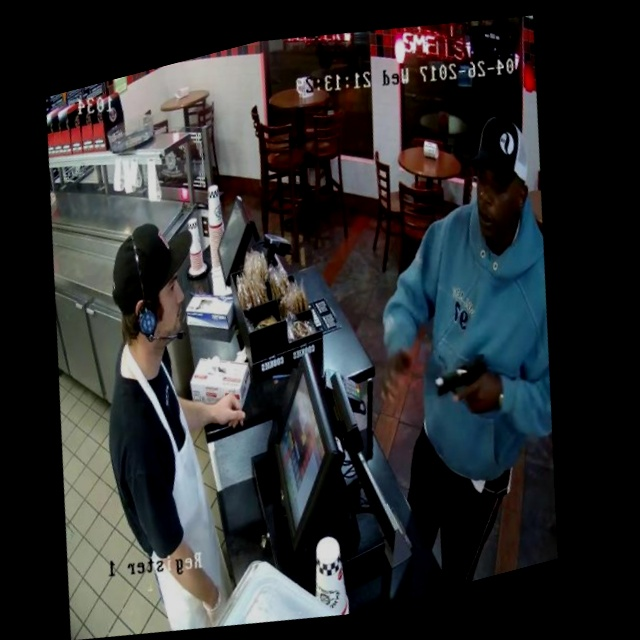gun: (408, 328, 520, 429)
